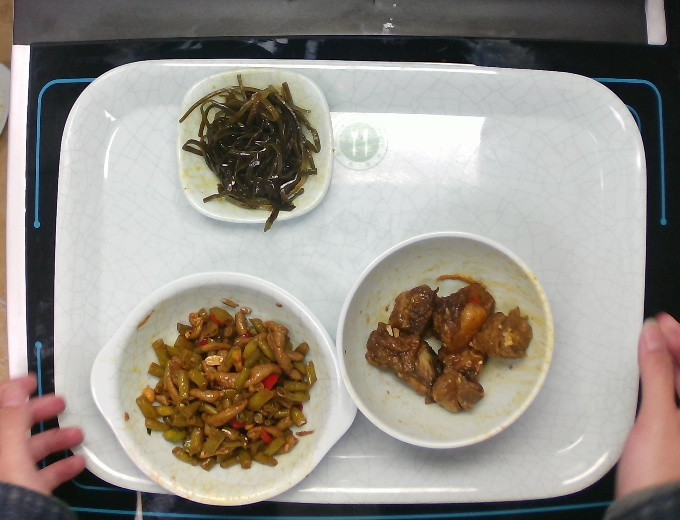JYsf-Fan_Wan: (333, 227, 557, 453)
JYsf-Shuang_Er_Wan: (88, 268, 359, 507)
JYsf-Si_Fang_Die: (173, 65, 336, 226)
